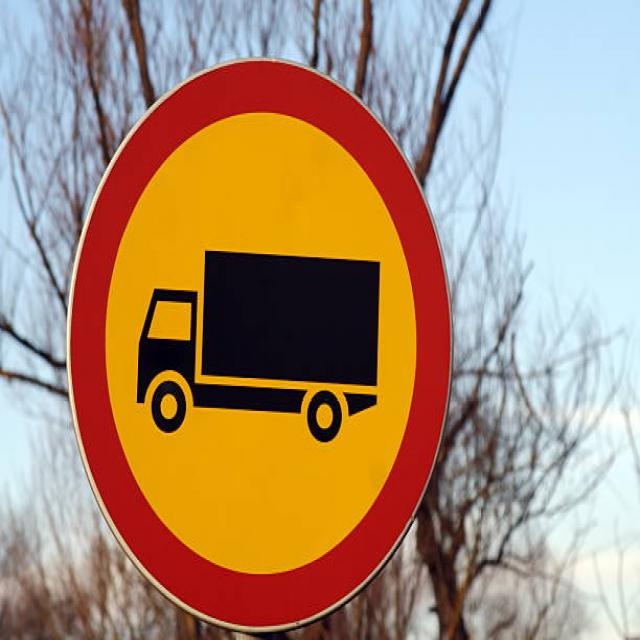do_not_enter: (51, 49, 456, 634)
